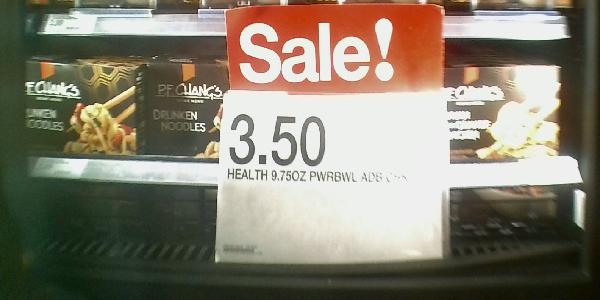icecream: (437, 64, 560, 162), (23, 58, 137, 155), (137, 60, 246, 158)
